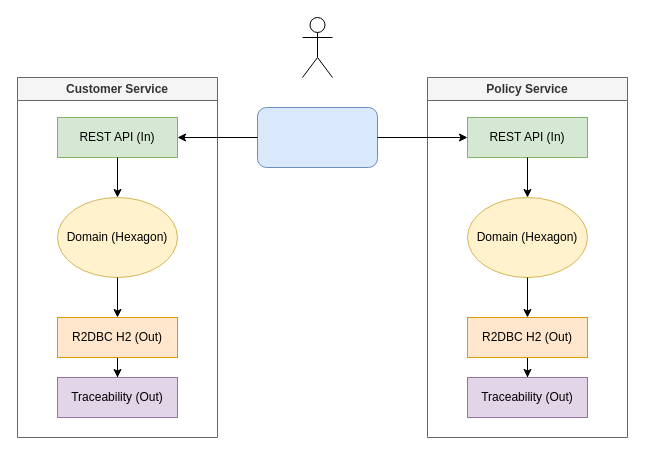
This 645x455 diagram has some shape labels left out. The shapes that lost their labels are listed below. From the top down, each one's centre as x and y in pixels, then its label:
At [317,47]: "User".
At [317,137]: "Web/Mobile Client".
